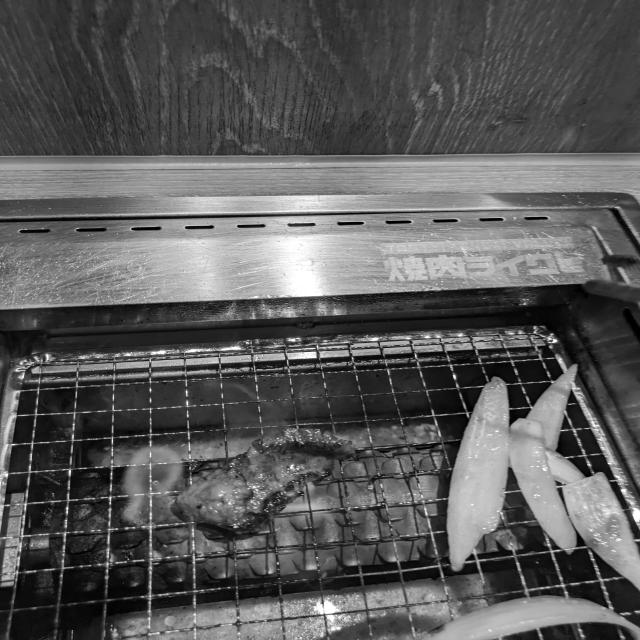OK cooked beef,: (158, 419, 381, 556)
